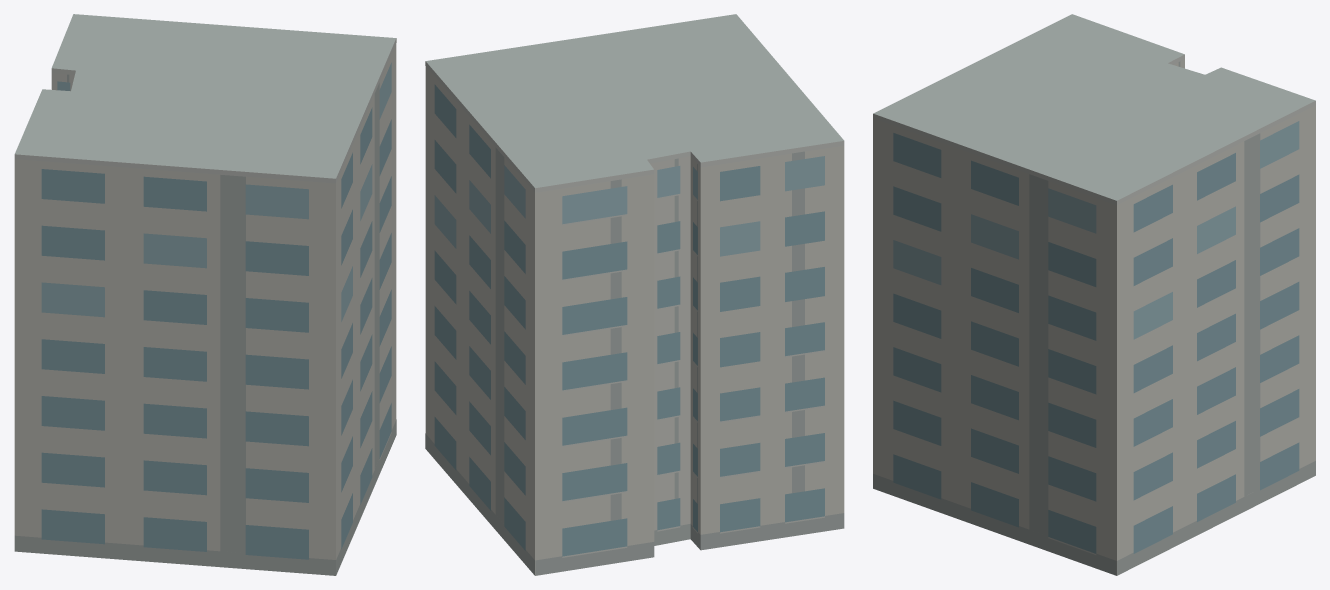
Rendered from survey-upis-32649407.glb.
3 views of the same model, side by side, from view 1: azimuth 30°, elevation 25°; view 2: azimuth 150°, elevation 25°; view 3: azimuth 270°, elevation 25° (orthographic). The views are drawn at different scales.
Visible parts, largest first — view 1: survey-upis-32649407.tmp; view 2: survey-upis-32649407.tmp; view 3: survey-upis-32649407.tmp.
Boxes of the visible parts, left/top/right/bottom form: survey-upis-32649407.tmp: left=14, top=14, right=396, bottom=575; survey-upis-32649407.tmp: left=425, top=14, right=844, bottom=575; survey-upis-32649407.tmp: left=873, top=14, right=1315, bottom=575.
Bounding box in the file's own units: 21.32 × 19.95 × 21.35.
